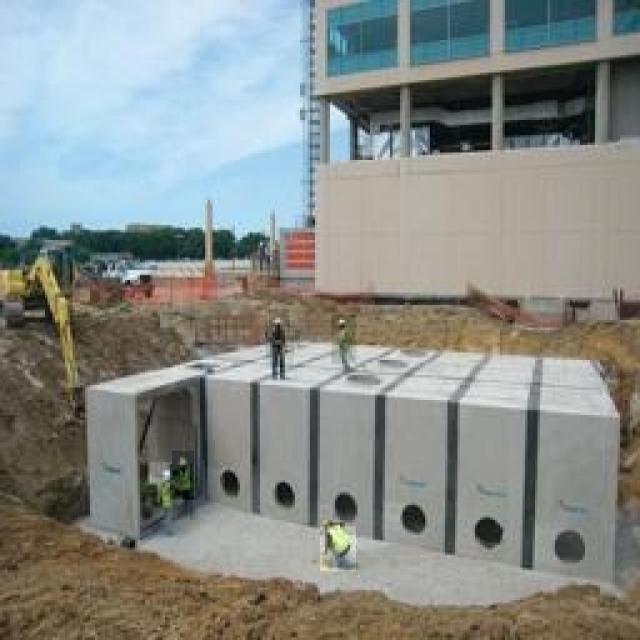Helmet: (312, 514, 342, 537), (332, 314, 356, 338), (149, 462, 174, 484), (269, 309, 289, 336), (172, 451, 195, 471)
Safety Vest: (320, 527, 356, 572), (152, 474, 180, 516), (266, 326, 294, 367), (332, 322, 357, 363), (170, 464, 194, 500)
